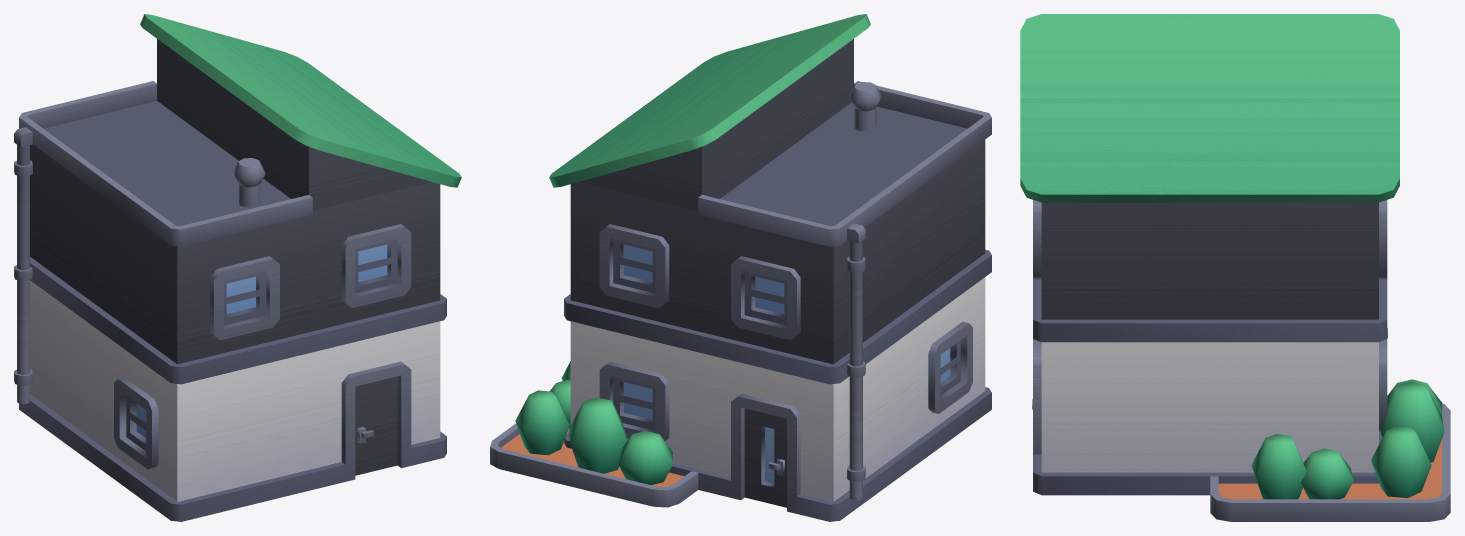
The model's file is house-i.glb.
3 renders of one model, left to right at view 1: azimuth 30°, elevation 25°; view 2: azimuth 150°, elevation 25°; view 3: azimuth 270°, elevation 25°, orthographic. The views are drawn at different scales.
Visible parts, largest first — view 1: building-type-l; view 2: building-type-l; view 3: building-type-l.
Boxes of the visible parts, x1,y1,x2,y2 form: building-type-l: (14,14,461,521); building-type-l: (490,14,991,521); building-type-l: (1020,14,1450,521).
Bounding box in the file's own units: 1 × 1.02 × 0.9869.
1 material, 1 textured.
